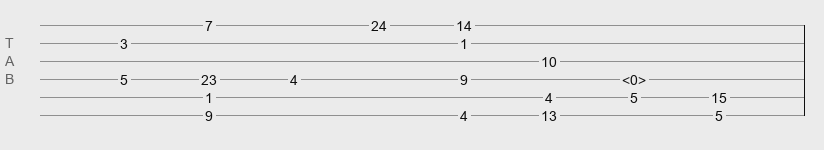1: (205, 90, 213, 100), (460, 36, 468, 46)
10: (541, 54, 557, 64)
13: (541, 108, 557, 118)
14: (456, 18, 472, 28)
15: (711, 90, 727, 100)
23: (201, 72, 217, 82)
24: (371, 18, 387, 28)
3: (120, 36, 128, 46)
4: (290, 72, 298, 82), (460, 108, 468, 118), (545, 90, 553, 100)
5: (120, 72, 128, 82), (630, 90, 638, 100), (715, 108, 723, 118)
7: (205, 18, 213, 28)
9: (205, 108, 213, 118), (460, 72, 468, 82)
harmonic: (622, 72, 646, 82)
